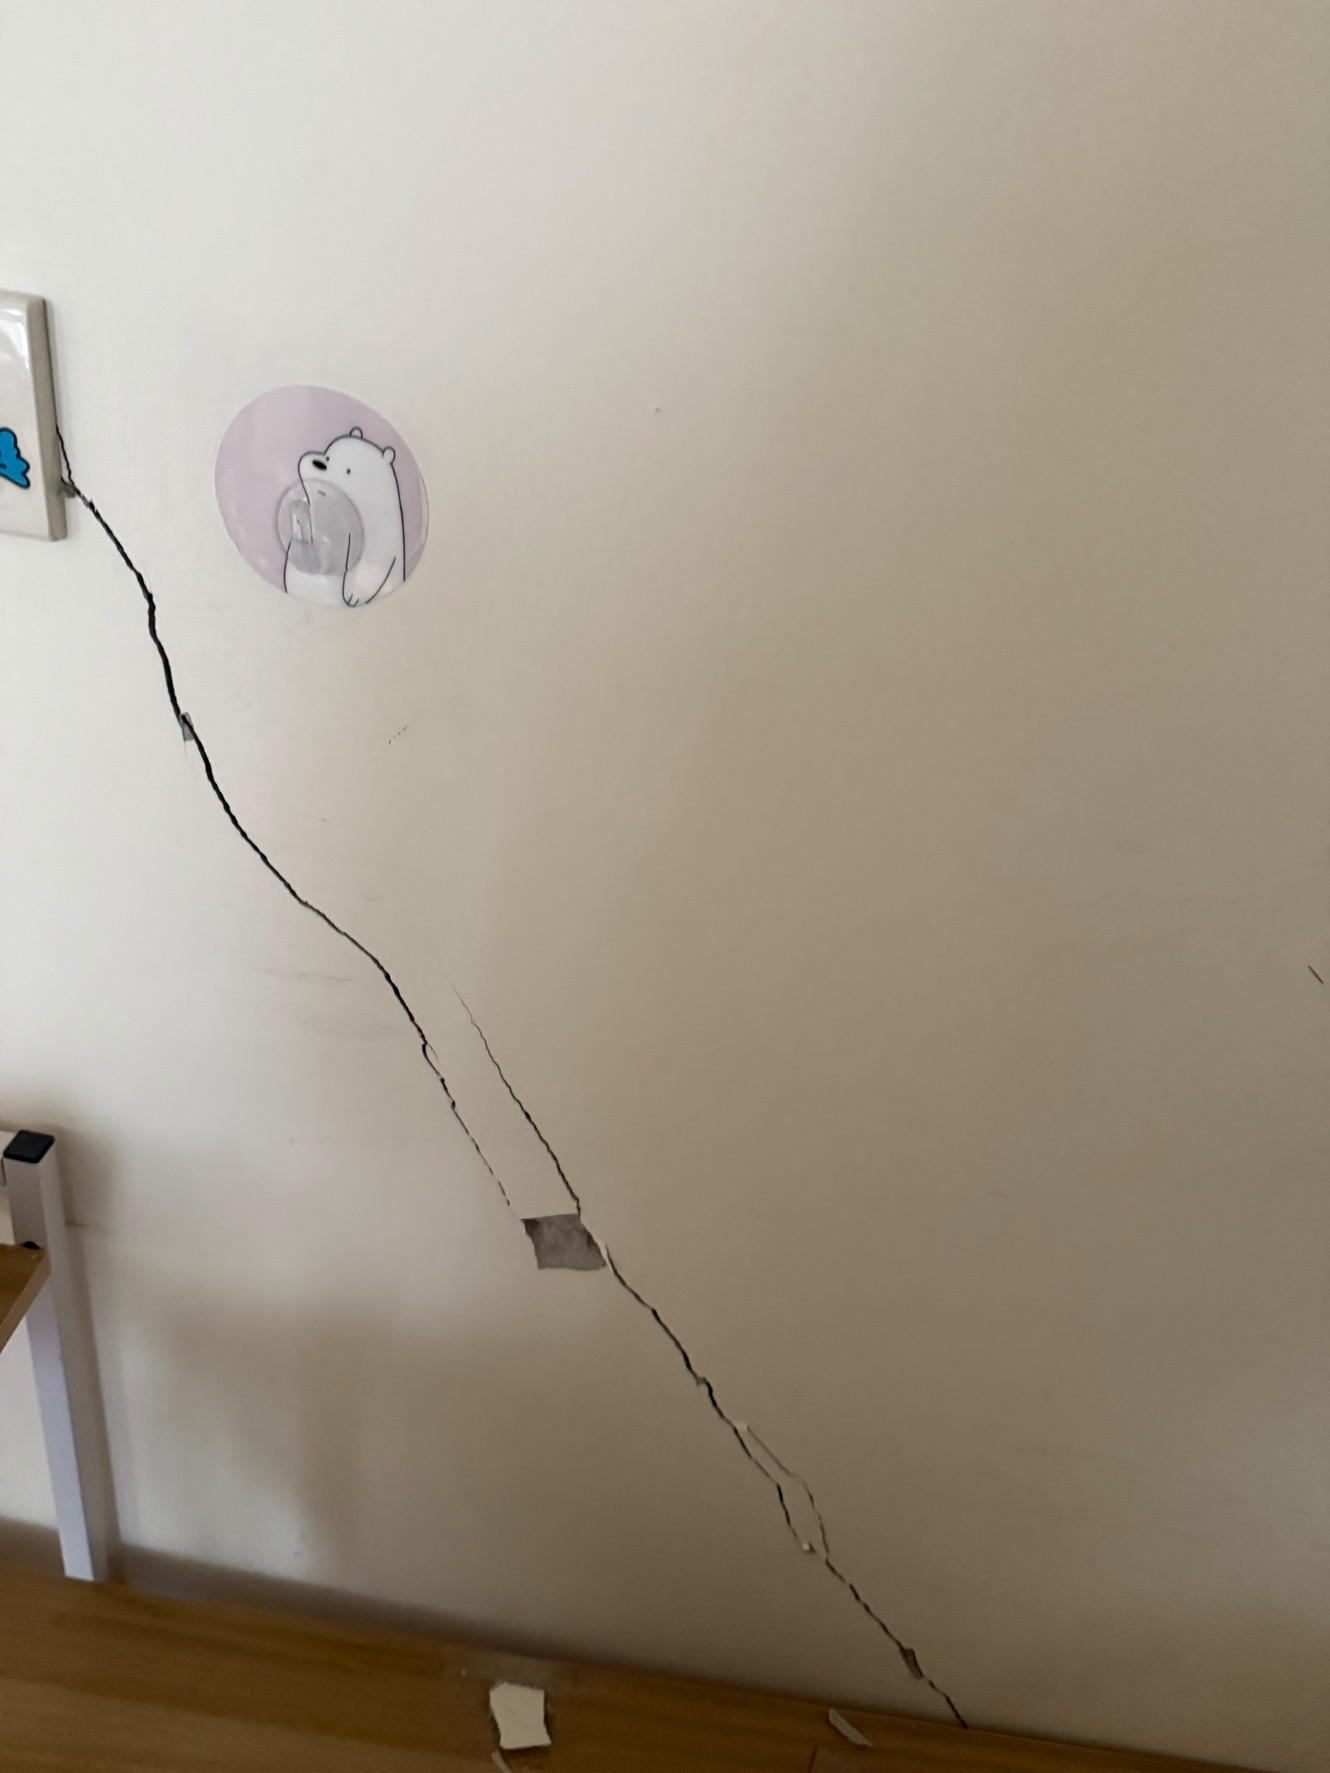Medium: (119, 595, 443, 1139)
